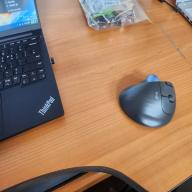Mouse: (119, 74, 176, 129)
